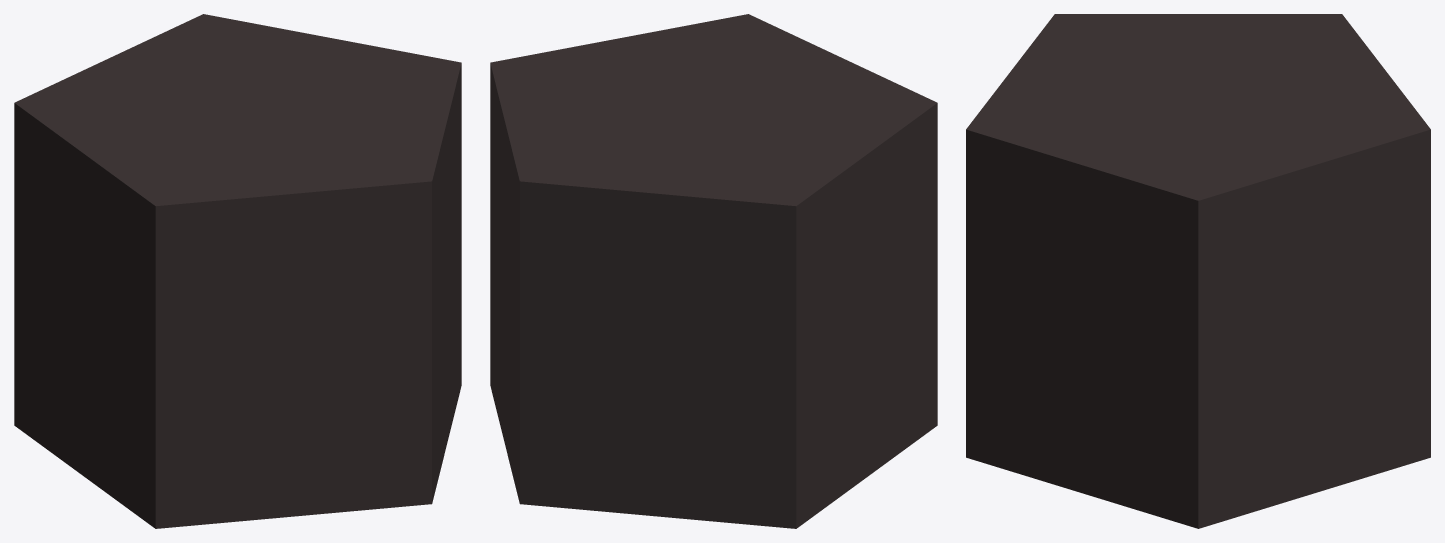
File: tpVideoRoomC.gltf
3 views of the same model, side by side, from view 1: azimuth 30°, elevation 25°; view 2: azimuth 150°, elevation 25°; view 3: azimuth 270°, elevation 25° (orthographic).
Visible parts, largest first — view 1: tpVideoRoom_5Side; view 2: tpVideoRoom_5Side; view 3: tpVideoRoom_5Side.
Boxes of the visible parts, <box> form: tpVideoRoom_5Side: <box>14,14,461,528</box>; tpVideoRoom_5Side: <box>490,14,937,528</box>; tpVideoRoom_5Side: <box>966,14,1430,528</box>.
Size of what is drawn, in the model's own units: 6.6 by 5.4 by 6.94.
1 material, 1 textured.
